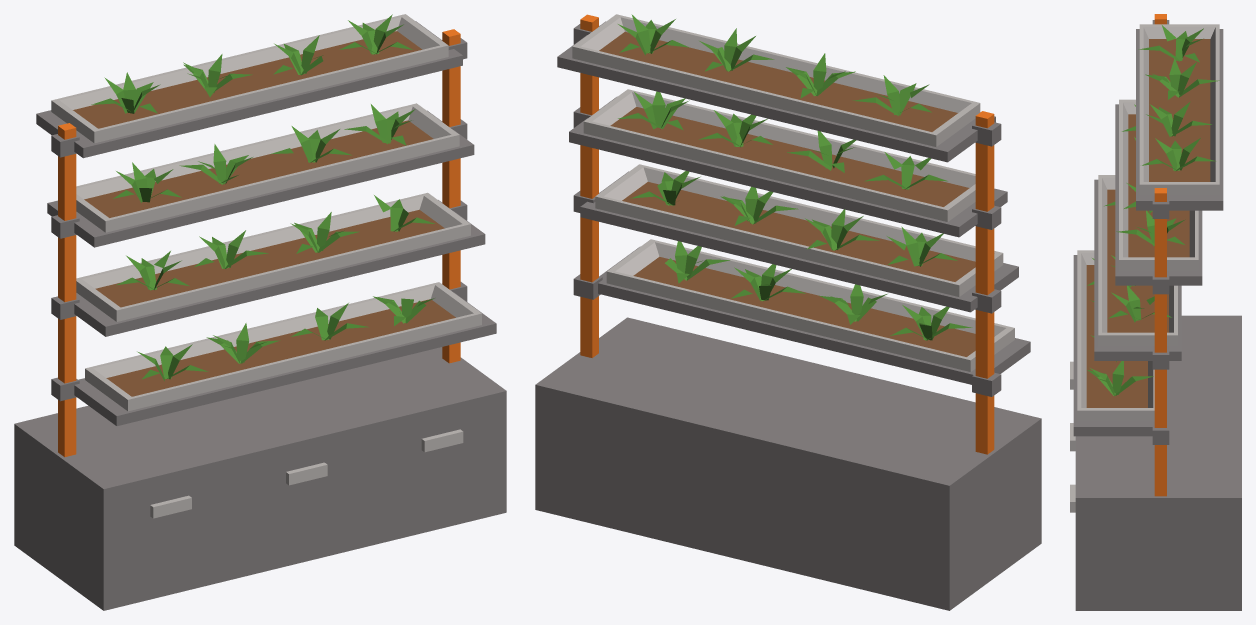
File: scifi-scifi-hydroponic-shelves.glb
3 views of the same model, side by side, from view 1: azimuth 30°, elevation 25°; view 2: azimuth 150°, elevation 25°; view 3: azimuth 270°, elevation 25° (orthographic). The views are drawn at different scales.
Visible parts, largest first — view 1: scifi-hydroponic-shelves; view 2: scifi-hydroponic-shelves; view 3: scifi-hydroponic-shelves.
Boxes of the visible parts, x1,y1,x2,y2 form: scifi-hydroponic-shelves: [14, 14, 506, 610]; scifi-hydroponic-shelves: [535, 14, 1041, 610]; scifi-hydroponic-shelves: [1070, 14, 1241, 610].
Bounding box in the file's own units: 2.1 × 2.3 × 0.8274.
